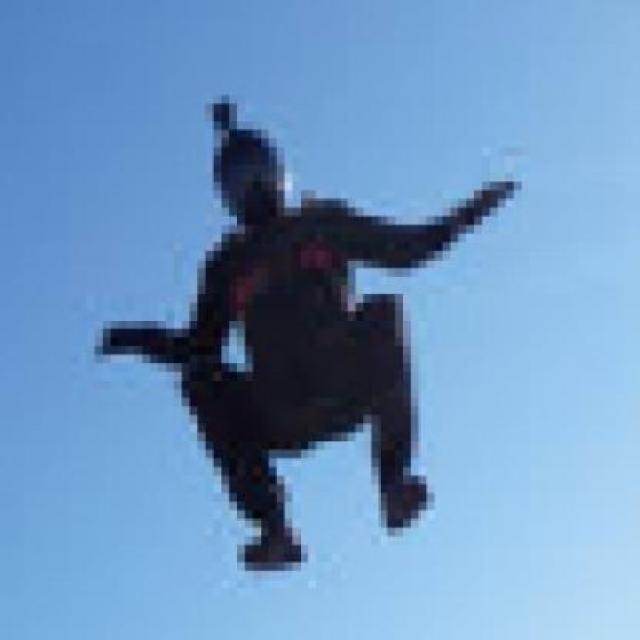fall: (89, 100, 525, 575)
